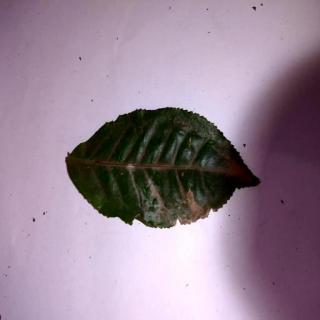Anthracnose: (65, 107, 265, 230)
